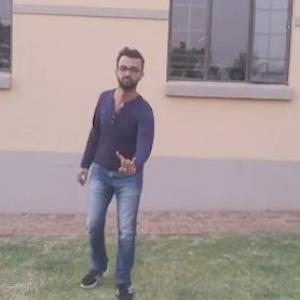takeoff-hand: (114, 141, 142, 177)
